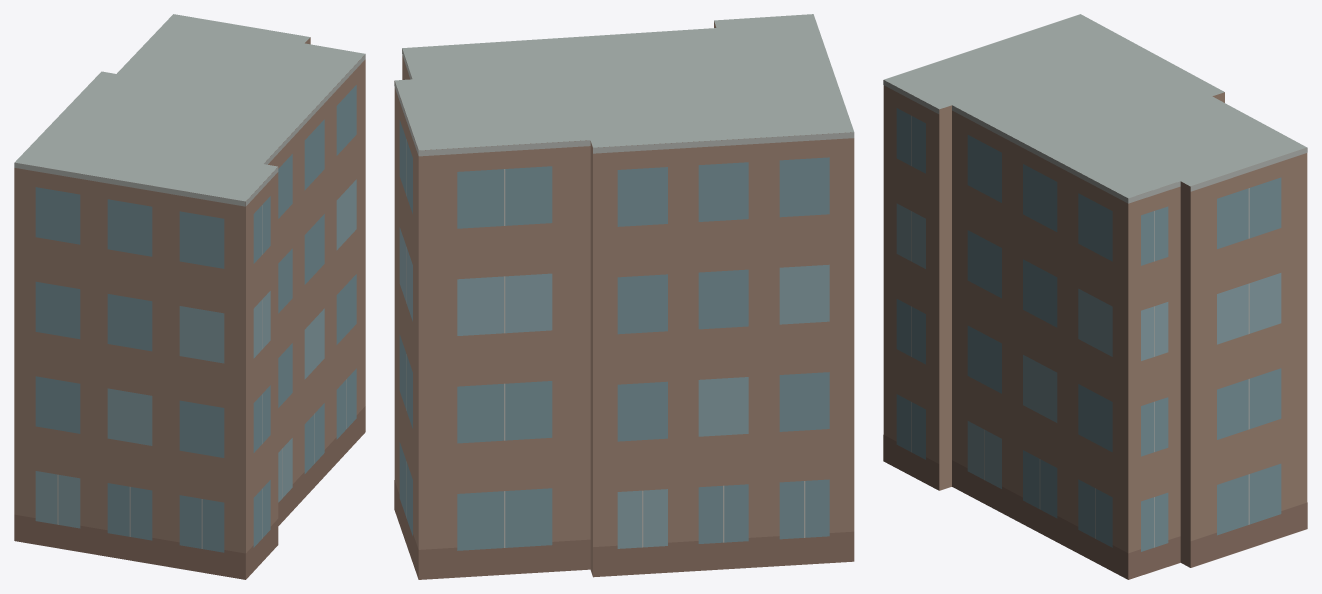
Rendered from survey-upis-32598169.glb.
3 views of the same model, side by side, from view 1: azimuth 30°, elevation 25°; view 2: azimuth 150°, elevation 25°; view 3: azimuth 270°, elevation 25° (orthographic). The views are drawn at different scales.
Parts seen in each view (by area): view 1: survey-upis-32598169.tmp; view 2: survey-upis-32598169.tmp; view 3: survey-upis-32598169.tmp.
Boxes of the visible parts, x1=… form: survey-upis-32598169.tmp: x1=14, y1=14, x2=365, y2=579; survey-upis-32598169.tmp: x1=394, y1=14, x2=854, y2=579; survey-upis-32598169.tmp: x1=883, y1=14, x2=1307, y2=579.
Size of the model in its own units: 18.35 by 17.7 by 17.83.
